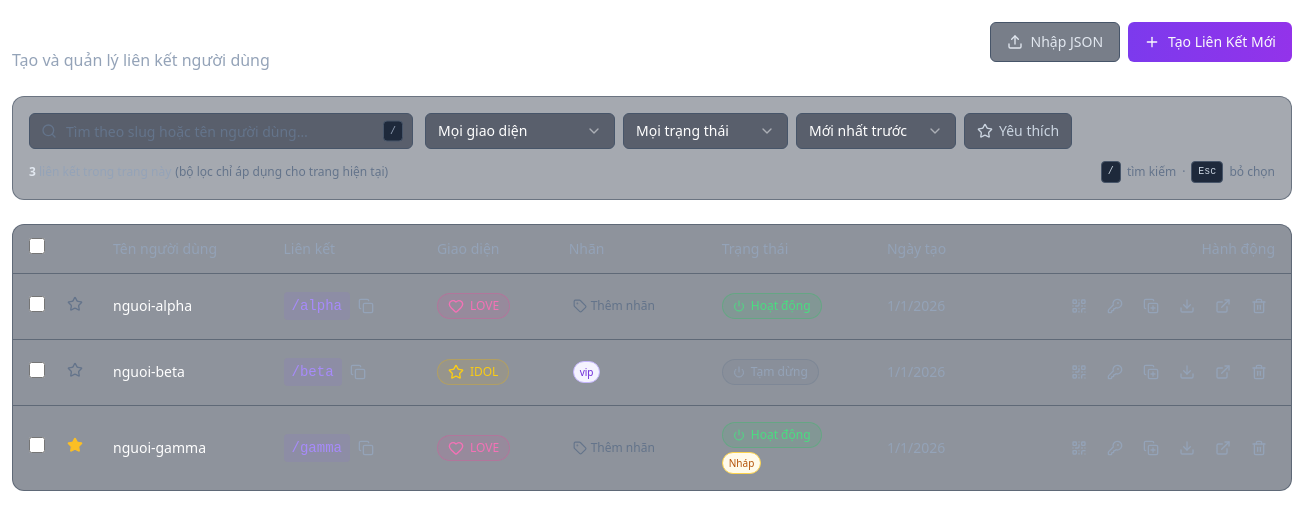
LinksTable — tìm kiếm, lọc, sắp xếp › chỉ hiện liên kết yêu thích khi bật bộ lọc yêu thích
The width and height of the screenshot is (1304, 508).
Click the button "Yêu thích". click: (1018,131)
box: [964,113,1072,149]
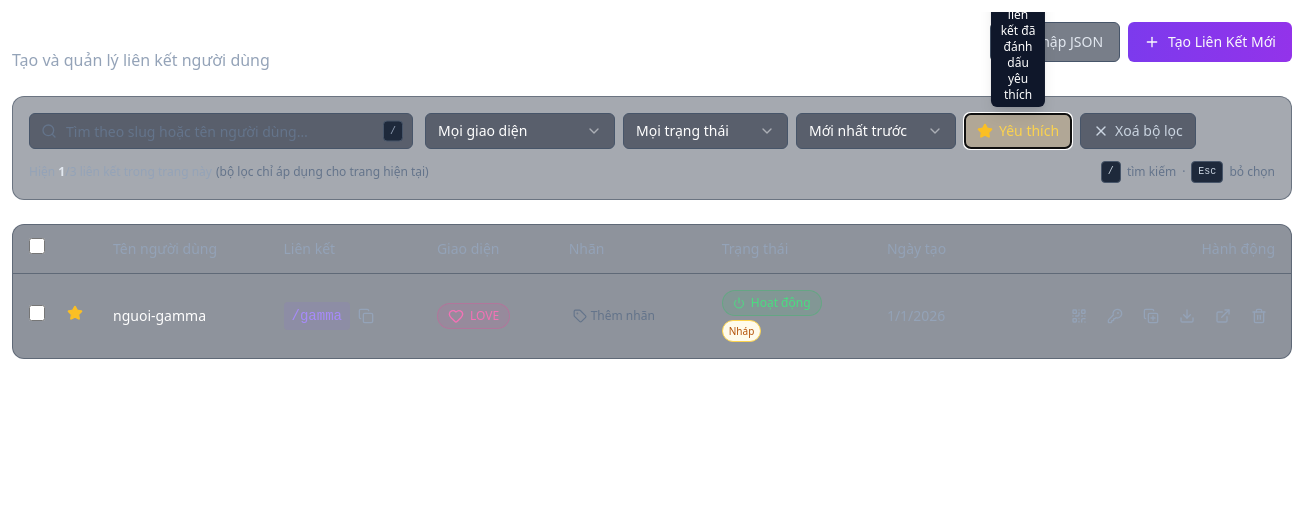
Check: the text "/gamma" is shown, box [284,302,350,330]
Check: the text "/alpha" is gone
